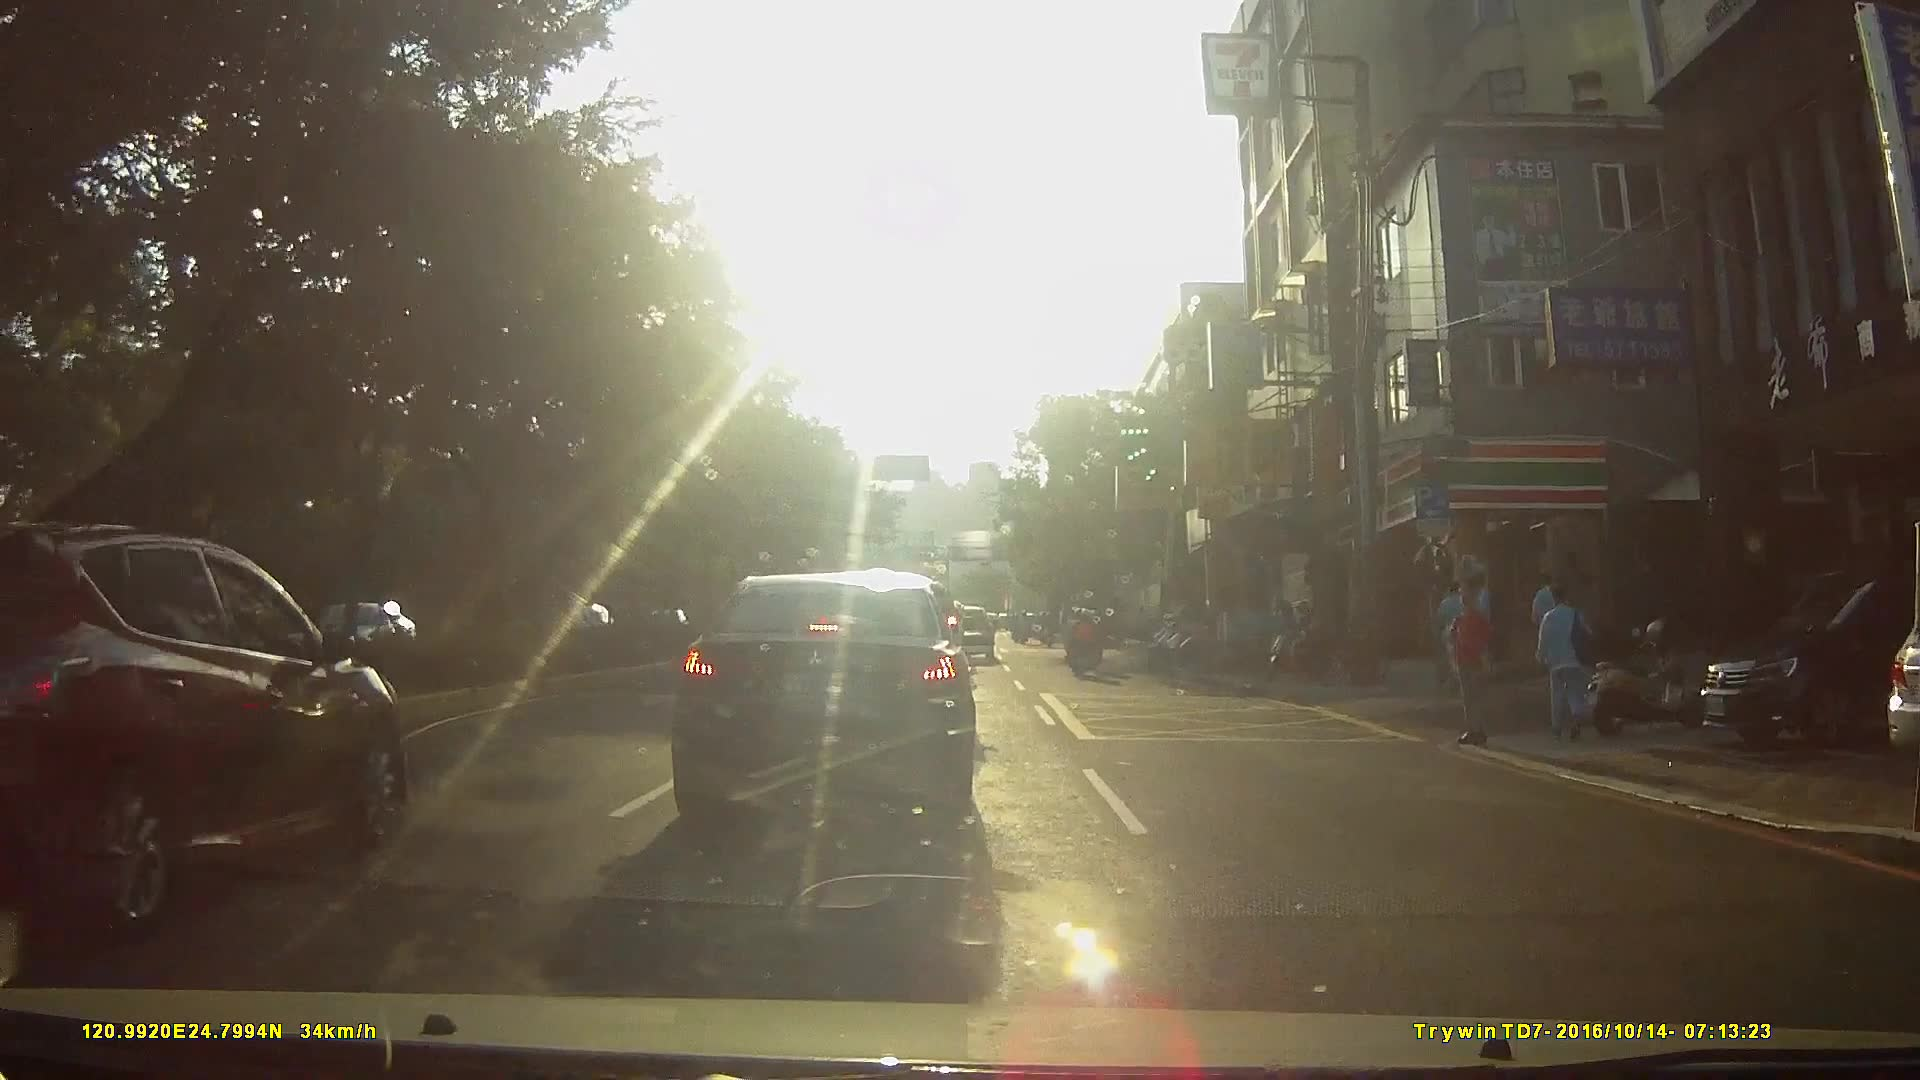pedestrian: (1530, 585, 1594, 737), (1450, 591, 1499, 751), (1435, 579, 1475, 682)
rider: (1063, 608, 1101, 682), (1062, 606, 1087, 659)
vehicle: (1, 519, 430, 933), (670, 573, 993, 807), (1687, 564, 1920, 757)
